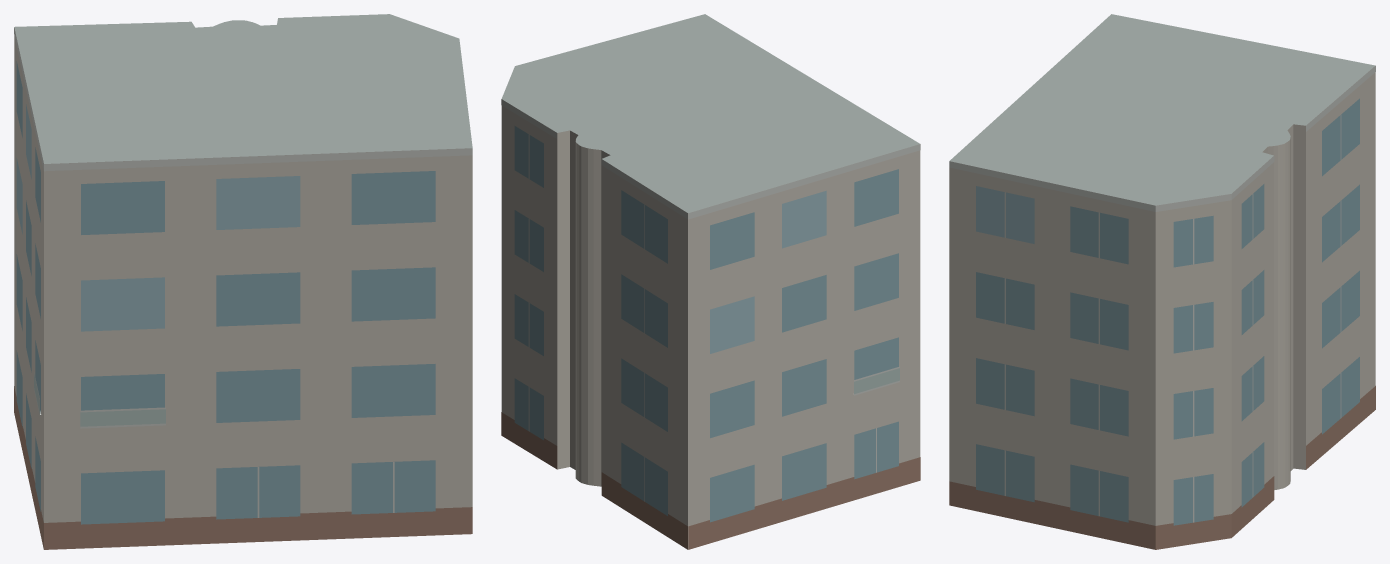
File: survey-upis-32925842.glb
The picture shows the model from 3 angles, left to right: view 1: azimuth 30°, elevation 25°; view 2: azimuth 150°, elevation 25°; view 3: azimuth 270°, elevation 25°; orthographic projection. The views are drawn at different scales.
Visible parts, largest first — view 1: survey-upis-32925842.tmp; view 2: survey-upis-32925842.tmp; view 3: survey-upis-32925842.tmp.
Boxes of the visible parts, x1=… form: survey-upis-32925842.tmp: x1=14, y1=14, x2=472, y2=549; survey-upis-32925842.tmp: x1=501, y1=14, x2=920, y2=549; survey-upis-32925842.tmp: x1=949, y1=14, x2=1375, y2=549.
Size of the model in its own units: 15.65 by 13.1 by 14.72.
